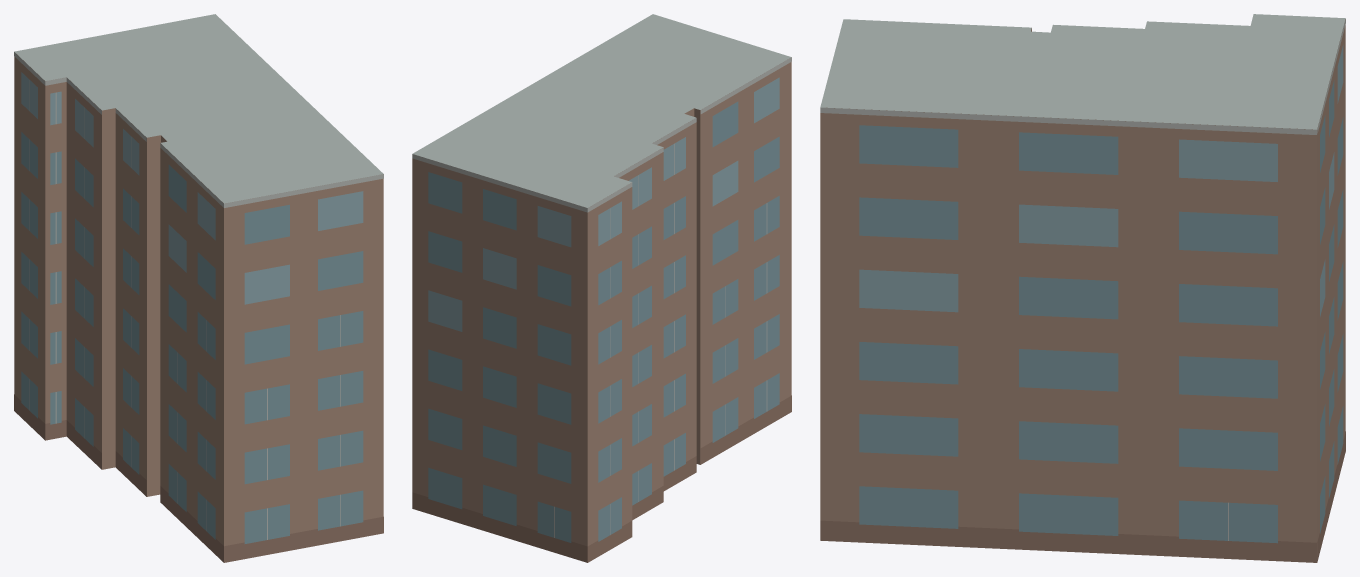
File: survey-upis-32978240.glb
3 views of the same model, side by side, from view 1: azimuth 30°, elevation 25°; view 2: azimuth 150°, elevation 25°; view 3: azimuth 270°, elevation 25° (orthographic). The views are drawn at different scales.
Parts seen in each view (by area): view 1: survey-upis-32978240.tmp; view 2: survey-upis-32978240.tmp; view 3: survey-upis-32978240.tmp.
Part boxes in pixels (<box>): survey-upis-32978240.tmp: <box>14,14,383,562</box>; survey-upis-32978240.tmp: <box>412,14,791,562</box>; survey-upis-32978240.tmp: <box>820,14,1345,562</box>.
Bounding box in the file's own units: 10.97 × 19.15 × 21.06.
